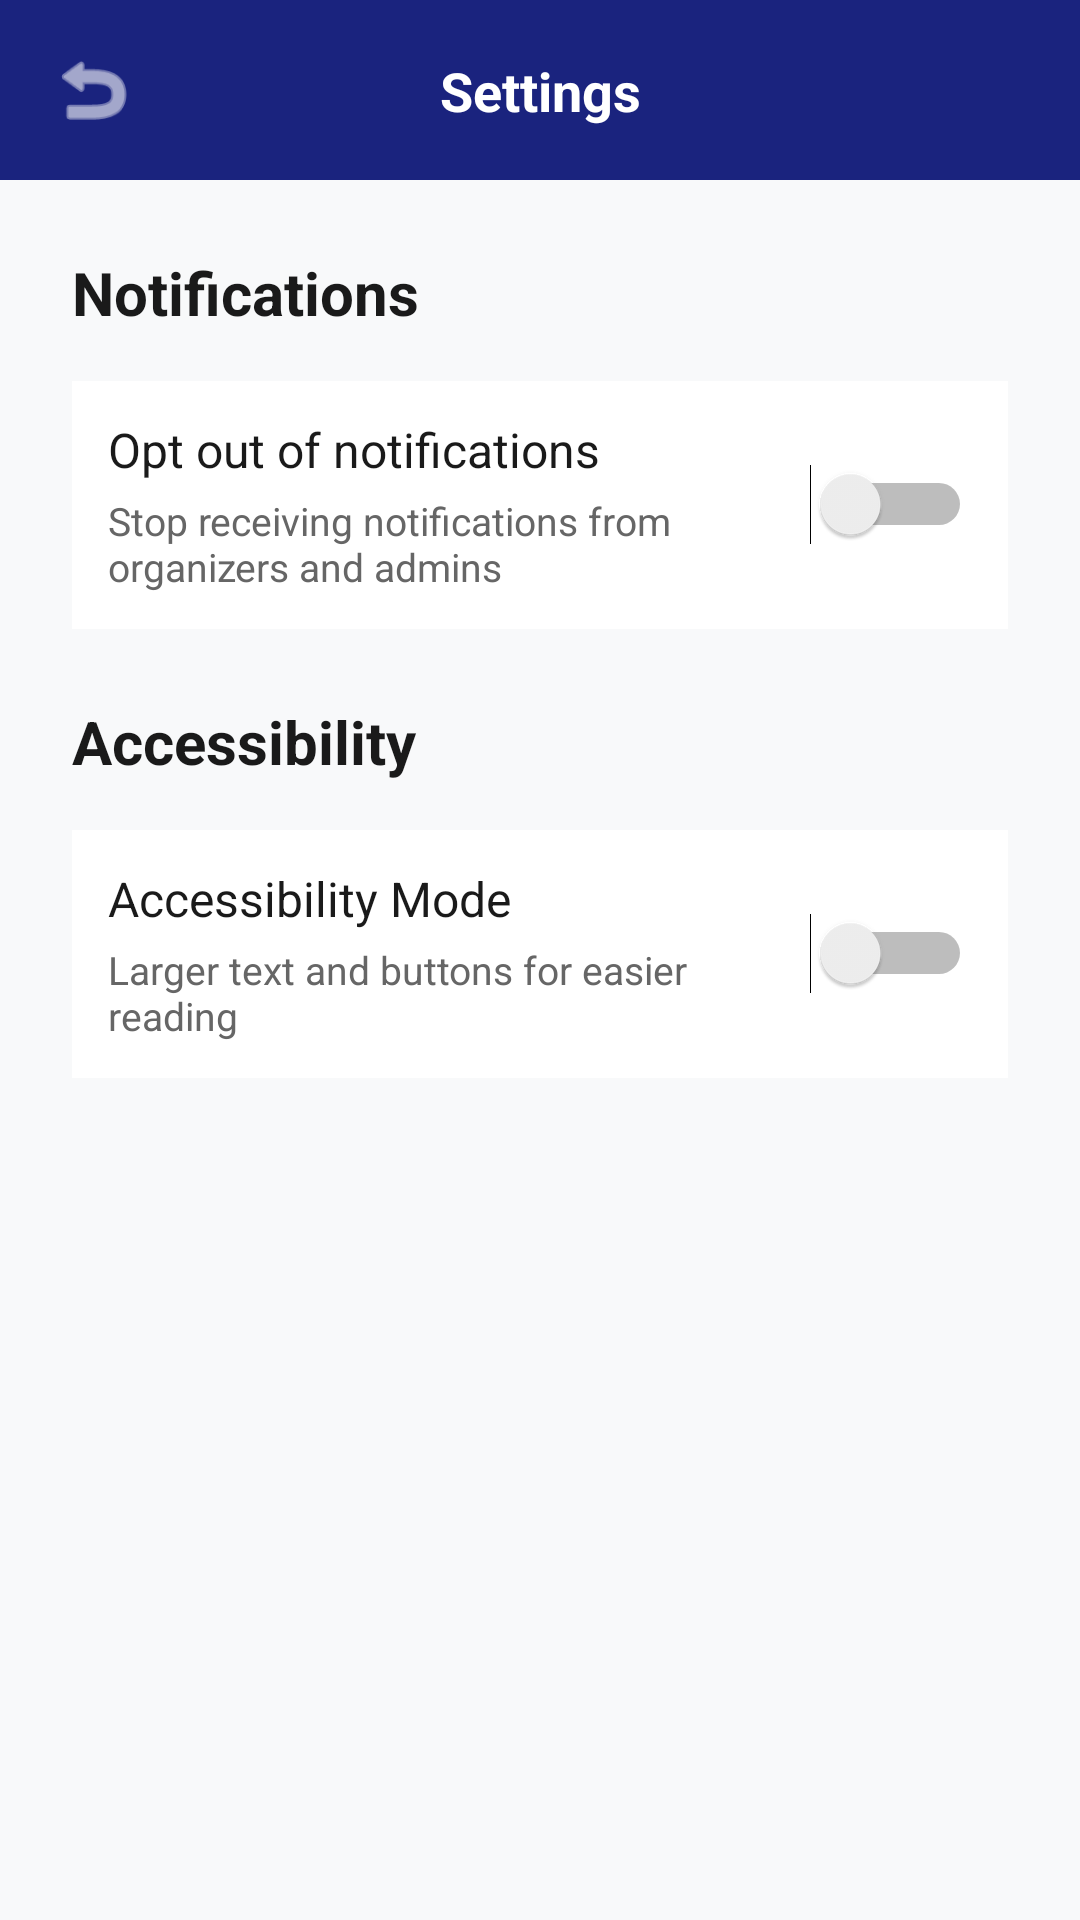

Icon click points for this 1080 x 1920 phone screenshot, format [x,y]:
revert: [94,90]
